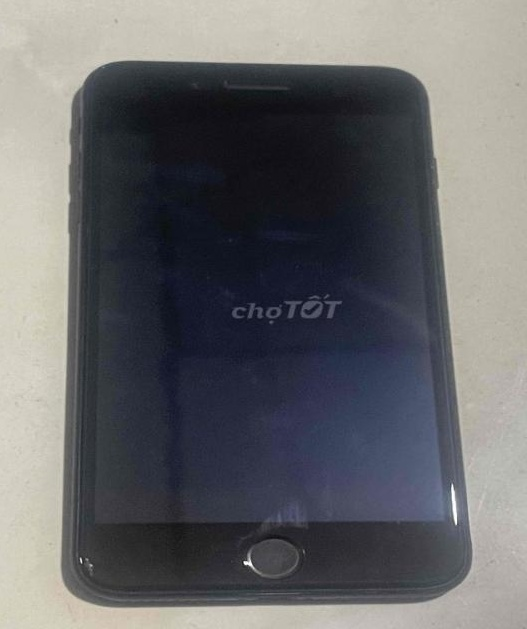scratch: (72, 548, 100, 577), (449, 480, 464, 528), (237, 554, 250, 567), (99, 62, 105, 70)
